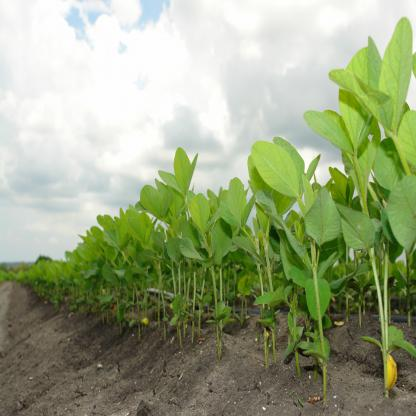Soybean leaf: (250, 139, 301, 197), (335, 201, 377, 255), (304, 185, 340, 247), (305, 278, 331, 321), (210, 217, 233, 261), (227, 177, 247, 226), (140, 185, 166, 220), (174, 145, 192, 192), (191, 193, 210, 232), (179, 238, 205, 262), (128, 218, 145, 244)
